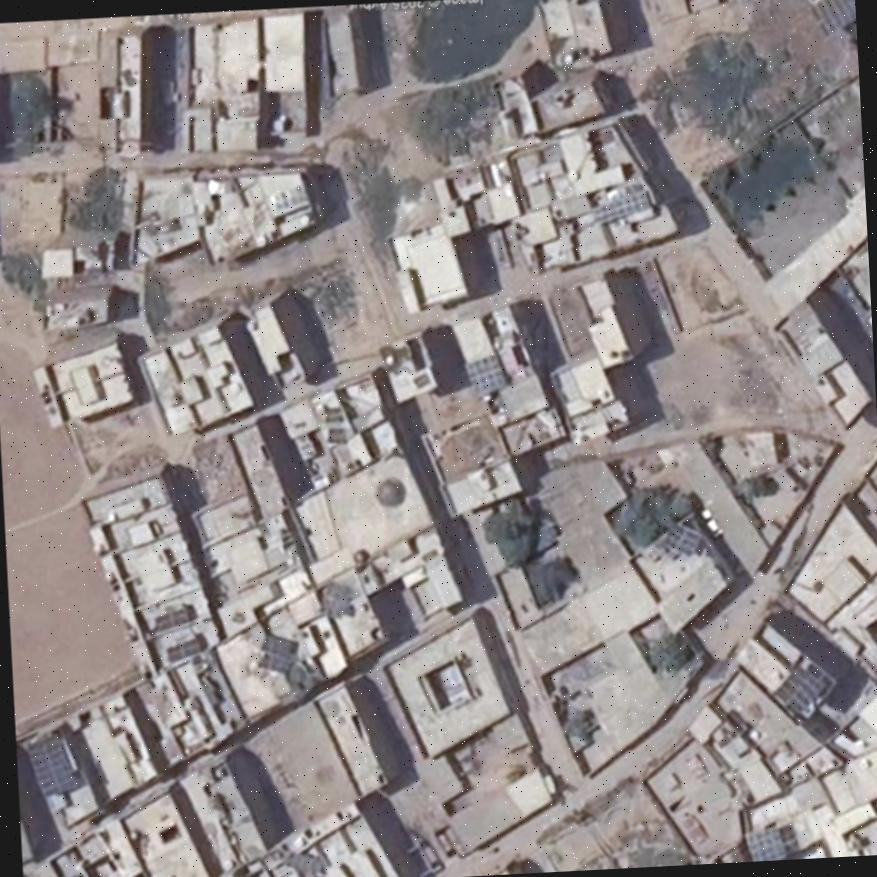Solarpanel: (29, 739, 73, 795), (775, 666, 824, 716), (596, 188, 650, 222), (466, 356, 506, 394), (810, 0, 855, 32), (258, 635, 293, 671), (665, 523, 703, 555), (748, 832, 786, 861), (167, 638, 199, 664), (155, 611, 189, 632)
